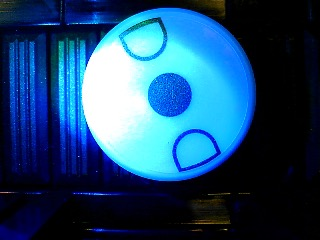BOHOMIPO2: (82, 8, 256, 182)
